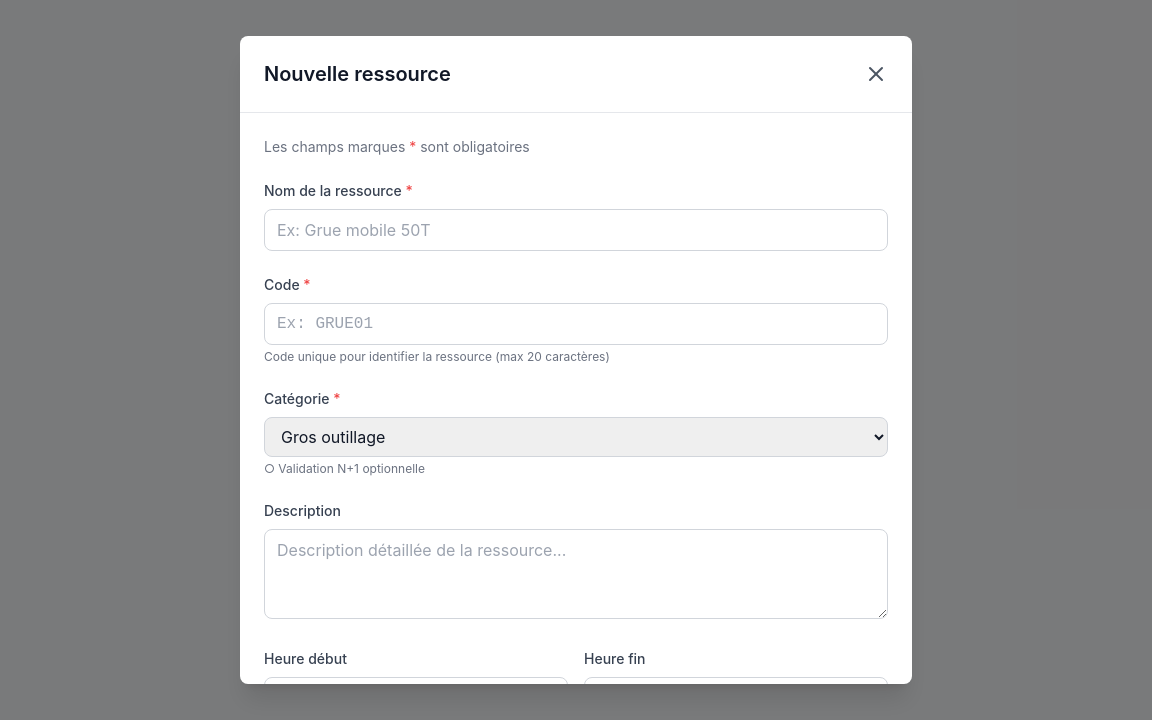
Test case: RessourceModal › le code est auto-genere a partir du nom
Type "Grue mobile" into the field labelled "Nom de la ressource *".
click(576, 230); type("Grue mobile")  # box [264, 209, 888, 251]
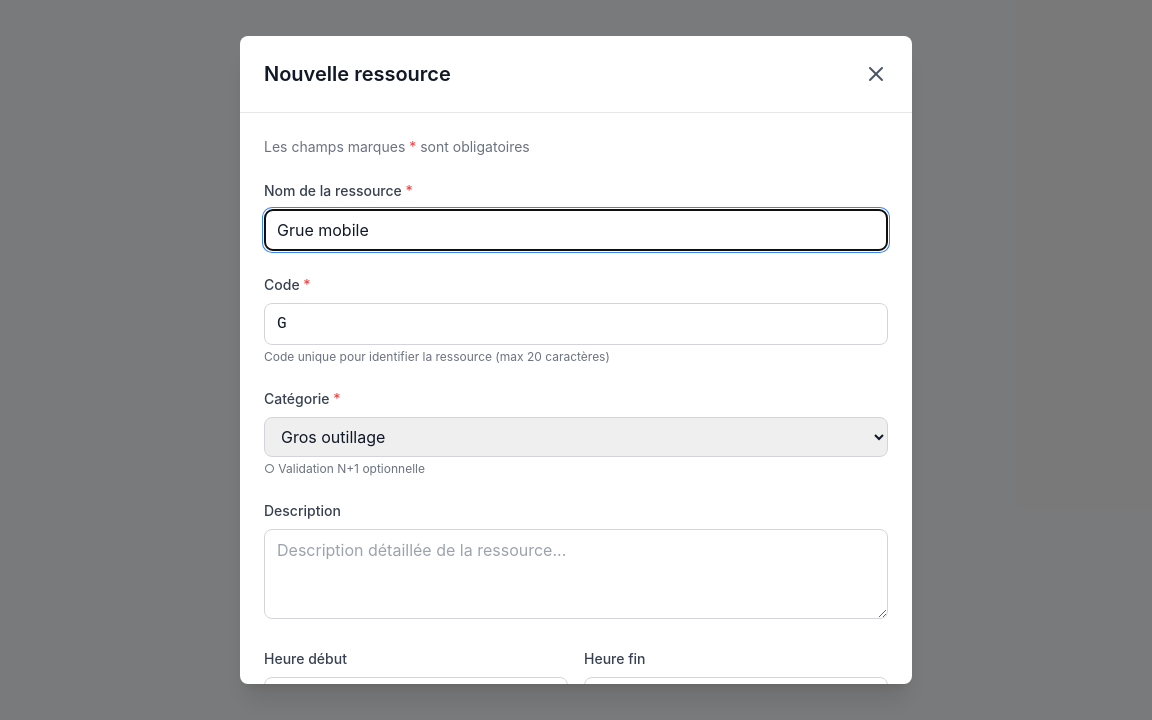
Check: the field labelled "Code *" is not empty, box [264, 303, 888, 345]
